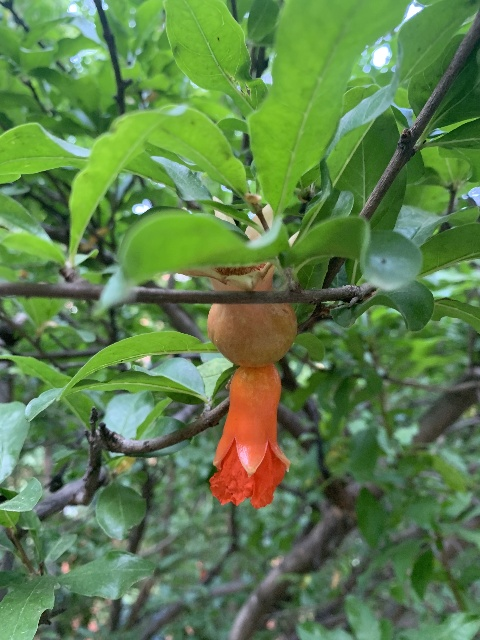early-fruit: (173, 197, 296, 366)
flower: (210, 362, 290, 509)
